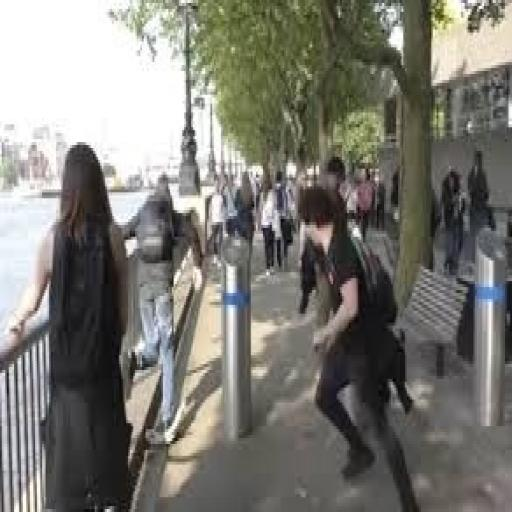running: (4, 139, 135, 509), (292, 181, 422, 509)
